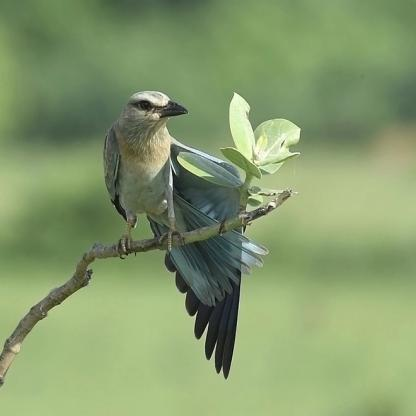Burung: (103, 91, 268, 380)
